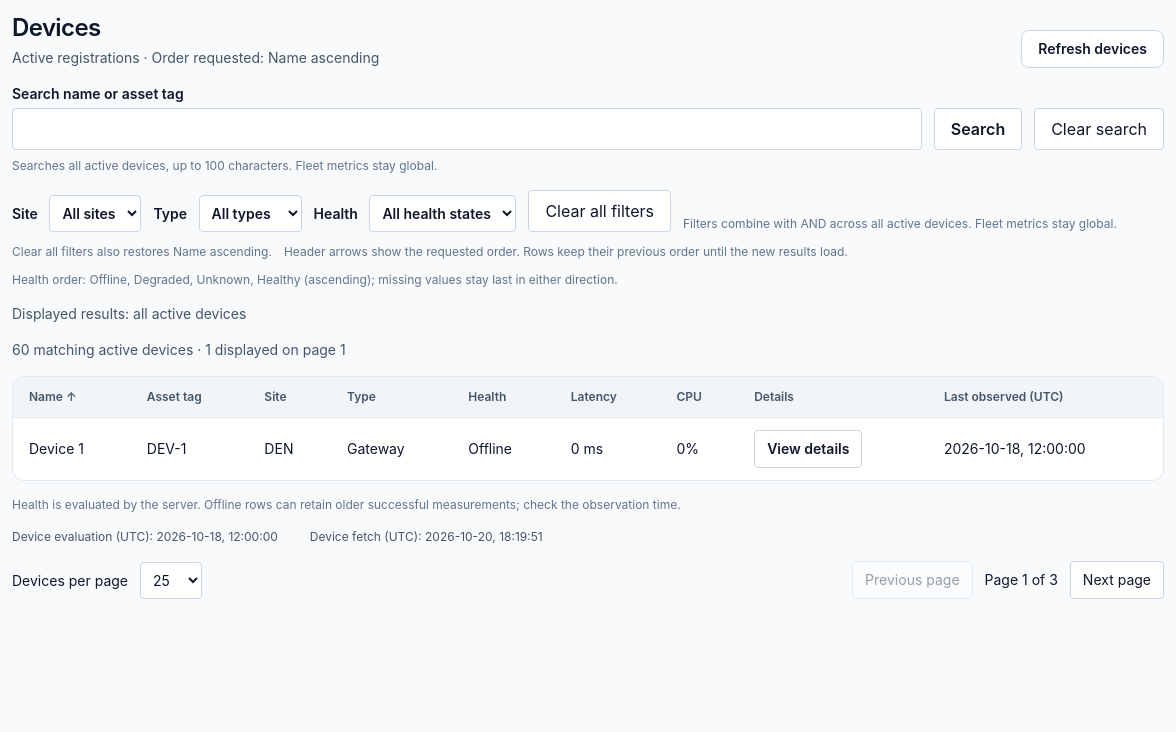
Test case: paginates at the server and can return to the fresh cached page without a second observer fetch
Expected: the text "Device 1" is shown, [13, 418, 131, 480]
Expected: the button "Previous page" is disabled, [852, 561, 973, 599]
Step 1. Click the button "Next page" → click(1117, 580), box [1070, 561, 1164, 599]
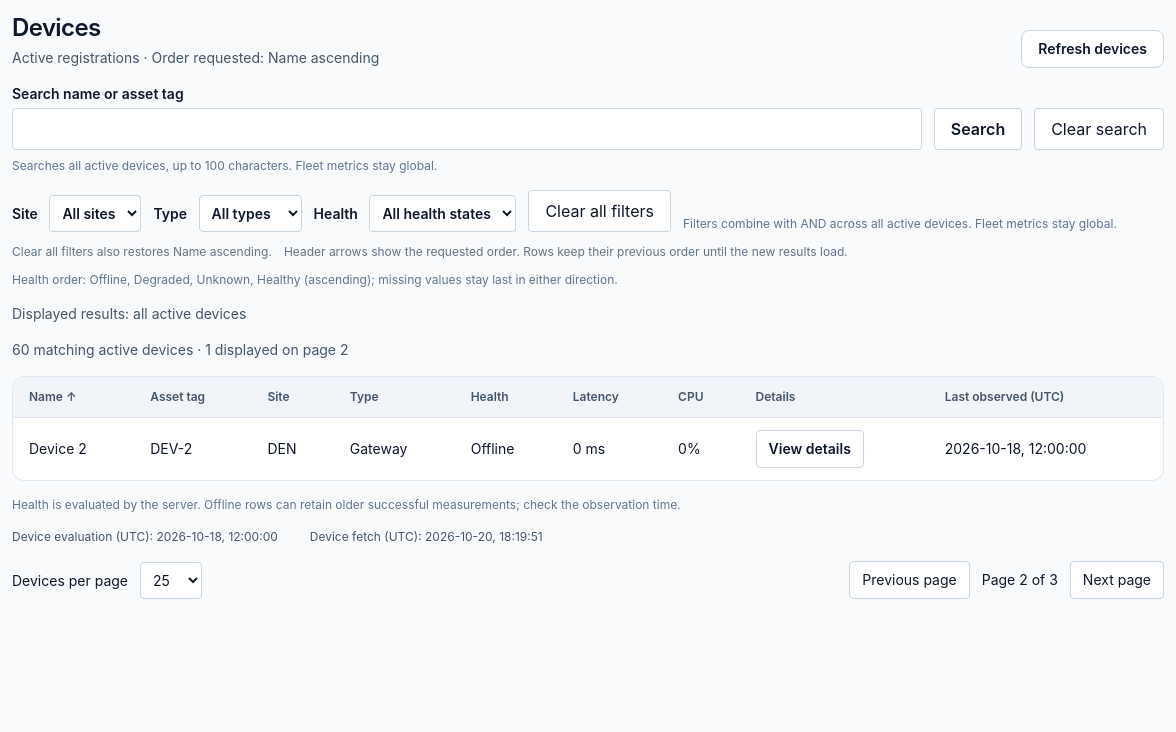
Expected: the text "Device 2" is shown, [13, 418, 134, 480]
Expected: the text "Device 1" is gone
Step 2. Click the button "Previous page" → click(910, 580), box [849, 561, 970, 599]
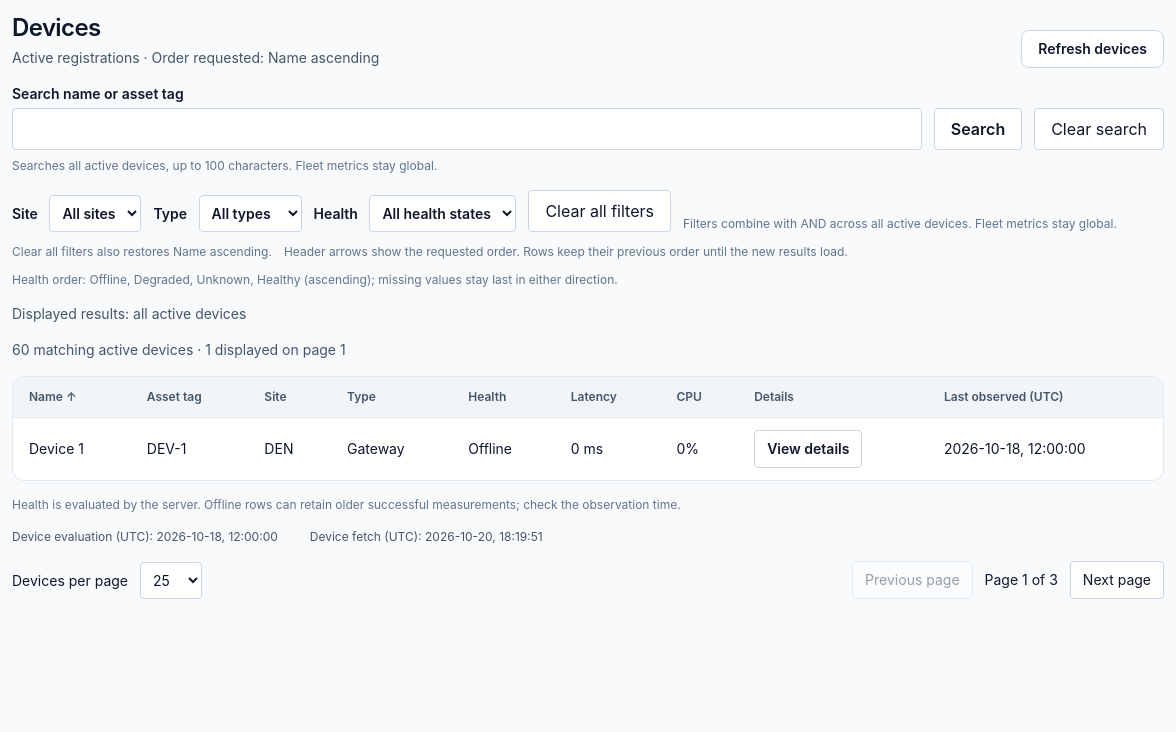
Expected: the text "Device 1" is shown, [13, 418, 131, 480]
